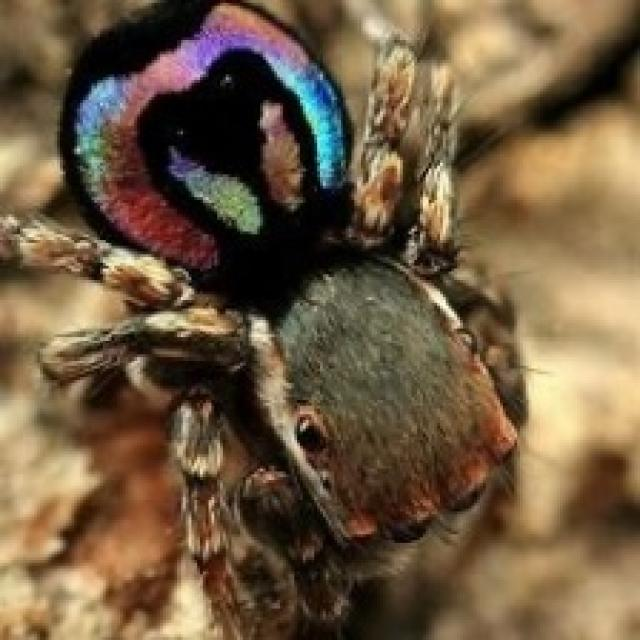Non venomous spider: (4, 5, 576, 638)
